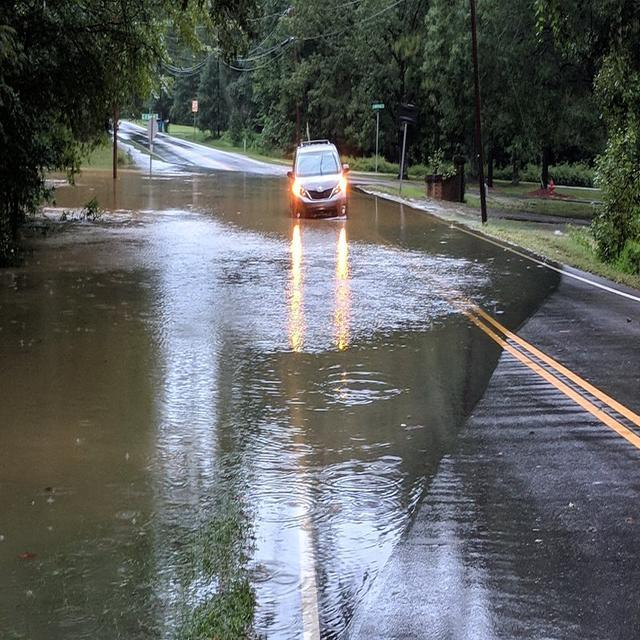Car-RiskLevel2: (282, 133, 362, 223)
